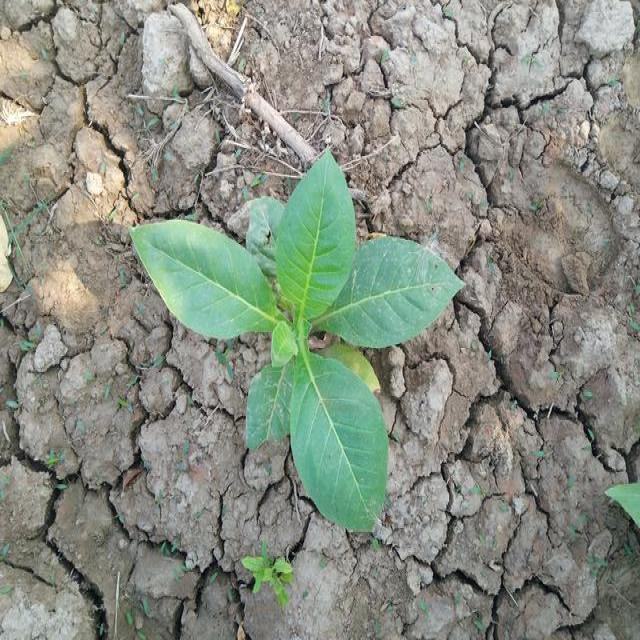crop: (134, 160, 460, 535)
